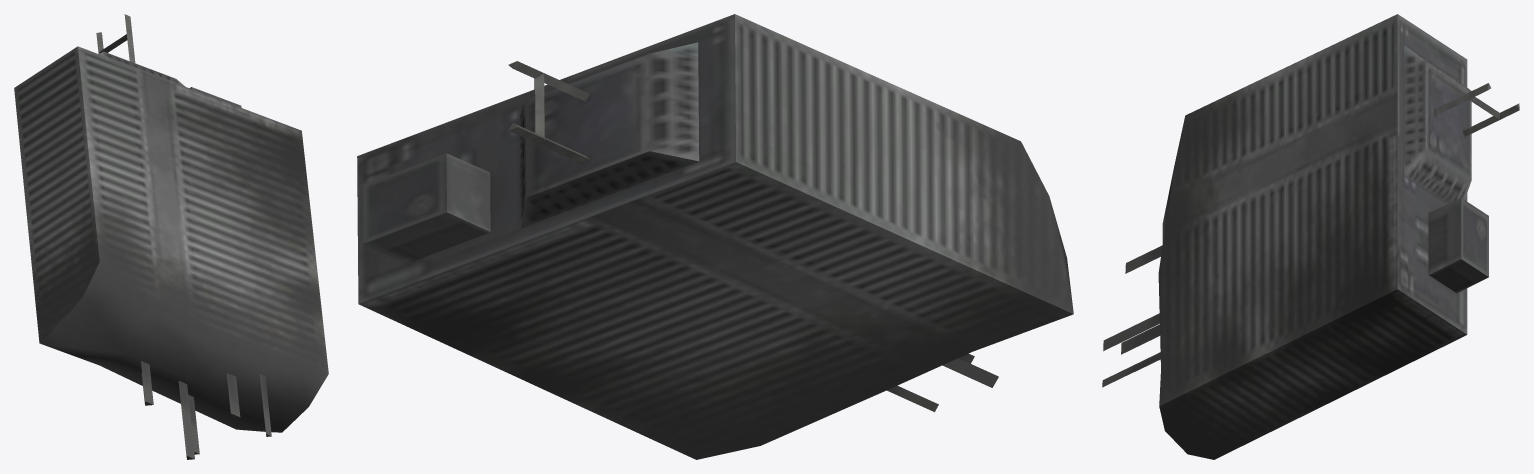
The model's file is skyBuildingAAC_pos_grp (24).fbx.
3 views of the same model, side by side, from view 1: azimuth 30°, elevation 25°; view 2: azimuth 150°, elevation 25°; view 3: azimuth 270°, elevation 25° (orthographic). The views are drawn at different scales.
Visible parts, largest first — view 1: skyBuildingAAC_geo; view 2: skyBuildingAAC_geo; view 3: skyBuildingAAC_geo.
Part boxes in pixels (box(x1,y1,x2,y2)): skyBuildingAAC_geo: box(14, 14, 328, 459); skyBuildingAAC_geo: box(357, 14, 1073, 459); skyBuildingAAC_geo: box(1102, 14, 1519, 459).
Size of the model in its own units: 7.29 by 7.11 by 6.92.
